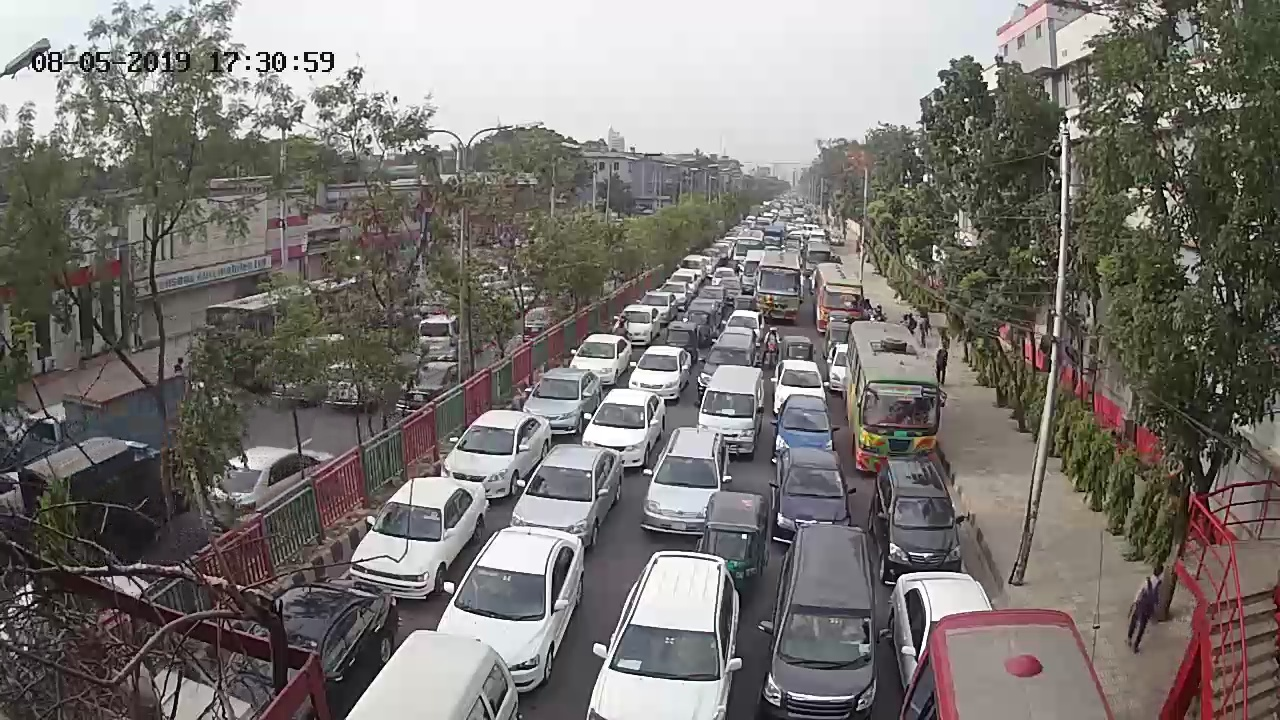fast_in: (203, 572, 401, 720), (896, 600, 1138, 720), (435, 519, 591, 694), (585, 554, 748, 720), (760, 519, 881, 710), (341, 471, 492, 601), (891, 569, 1037, 701), (333, 632, 538, 720), (847, 325, 966, 475), (870, 457, 979, 577), (514, 436, 625, 547), (437, 403, 560, 501), (642, 421, 733, 535), (694, 489, 775, 598), (576, 386, 670, 472), (778, 451, 855, 538), (694, 365, 768, 455), (514, 366, 606, 434), (557, 325, 635, 392), (620, 342, 695, 403), (701, 326, 757, 398), (772, 394, 838, 455), (812, 265, 865, 331), (755, 249, 802, 323), (826, 342, 872, 397), (774, 359, 825, 407), (608, 300, 663, 344), (661, 319, 704, 364), (632, 289, 679, 324), (723, 307, 767, 342), (741, 248, 770, 299), (776, 335, 817, 370), (684, 306, 717, 347), (650, 280, 693, 308), (823, 324, 860, 354), (733, 230, 766, 261), (822, 310, 858, 337), (666, 270, 703, 296), (688, 298, 721, 327), (677, 251, 712, 277), (707, 264, 740, 290), (698, 285, 728, 313), (609, 316, 634, 348), (762, 324, 782, 362), (806, 238, 834, 263), (716, 275, 742, 299), (893, 310, 917, 336), (733, 294, 760, 317), (764, 224, 785, 251), (784, 232, 807, 252), (869, 305, 888, 324), (809, 229, 828, 242)
fast_out: (18, 434, 195, 539), (198, 263, 381, 364), (5, 555, 156, 659), (198, 432, 334, 521), (65, 368, 198, 458), (264, 337, 348, 405), (392, 357, 469, 418), (317, 357, 385, 413), (410, 310, 472, 354), (471, 259, 528, 297), (521, 301, 560, 335)
